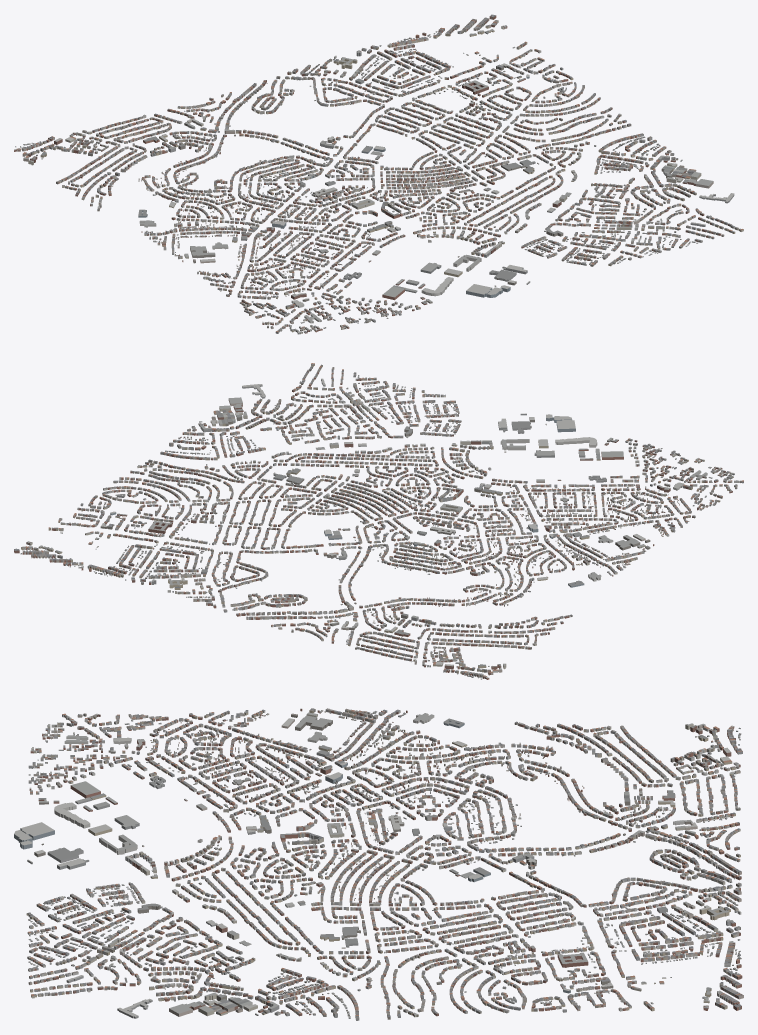
The model's file is buildings_b0_2_0.glb.
The picture shows the model from 3 angles, top to bottom: view 1: azimuth 30°, elevation 25°; view 2: azimuth 150°, elevation 25°; view 3: azimuth 270°, elevation 25°; orthographic projection. The views are drawn at different scales.
Parts seen in each view (by area): view 1: t09_01_buildings_b0, t10_01_buildings_b0, t08_01_buildings_b0, t11_02_buildings_b0, t08_00_buildings_b0, t11_00_buildings_b0, t08_03_buildings_b0, t11_01_buildings_b0, t10_02_buildings_b0, t09_02_buildings_b0, t11_03_buildings_b0, t10_03_buildings_b0 (+4 smaller); view 2: t10_01_buildings_b0, t08_01_buildings_b0, t09_01_buildings_b0, t08_03_buildings_b0, t11_01_buildings_b0, t11_02_buildings_b0, t09_02_buildings_b0, t08_00_buildings_b0, t10_03_buildings_b0, t11_00_buildings_b0, t11_03_buildings_b0, t09_03_buildings_b0 (+4 smaller); view 3: t08_01_buildings_b0, t09_01_buildings_b0, t11_00_buildings_b0, t10_01_buildings_b0, t10_02_buildings_b0, t11_01_buildings_b0, t08_00_buildings_b0, t11_02_buildings_b0, t10_03_buildings_b0, t09_02_buildings_b0, t08_02_buildings_b0, t10_00_buildings_b0 (+4 smaller).
Boxes of the visible parts, box(x1,y1,x2,y2) form: t09_01_buildings_b0: box(275, 180, 455, 259); t10_01_buildings_b0: box(393, 154, 580, 230); t08_01_buildings_b0: box(152, 208, 336, 291); t11_02_buildings_b0: box(459, 70, 631, 153); t08_00_buildings_b0: box(224, 259, 406, 334); t11_00_buildings_b0: box(588, 172, 743, 254); t08_03_buildings_b0: box(14, 119, 198, 197); t11_01_buildings_b0: box(518, 133, 696, 204); t10_02_buildings_b0: box(336, 103, 511, 180); t09_02_buildings_b0: box(231, 136, 390, 208); t11_03_buildings_b0: box(372, 14, 563, 96); t10_03_buildings_b0: box(253, 45, 432, 119); t10_01_buildings_b0: box(270, 435, 449, 511); t08_01_buildings_b0: box(505, 492, 689, 569); t09_01_buildings_b0: box(388, 463, 570, 539); t08_03_buildings_b0: box(368, 598, 550, 679); t11_01_buildings_b0: box(160, 410, 336, 485); t11_02_buildings_b0: box(88, 459, 263, 529); t09_02_buildings_b0: box(327, 512, 500, 577); t08_00_buildings_b0: box(573, 443, 743, 520); t10_03_buildings_b0: box(132, 536, 276, 619); t11_00_buildings_b0: box(219, 363, 403, 434); t11_03_buildings_b0: box(14, 503, 191, 580); t09_03_buildings_b0: box(251, 574, 433, 651); t08_01_buildings_b0: box(203, 708, 386, 787); t09_01_buildings_b0: box(205, 782, 385, 863); t11_00_buildings_b0: box(27, 938, 214, 1018); t10_01_buildings_b0: box(205, 859, 386, 942); t10_02_buildings_b0: box(383, 860, 563, 941); t11_01_buildings_b0: box(203, 938, 385, 1020); t08_00_buildings_b0: box(28, 713, 208, 788); t11_02_buildings_b0: box(383, 937, 563, 1019); t10_03_buildings_b0: box(561, 866, 741, 938); t09_02_buildings_b0: box(383, 784, 561, 866); t08_02_buildings_b0: box(383, 709, 563, 787); t10_00_buildings_b0: box(26, 858, 208, 941).
Size of the model in its own units: 2026 by 69.93 by 2053.
